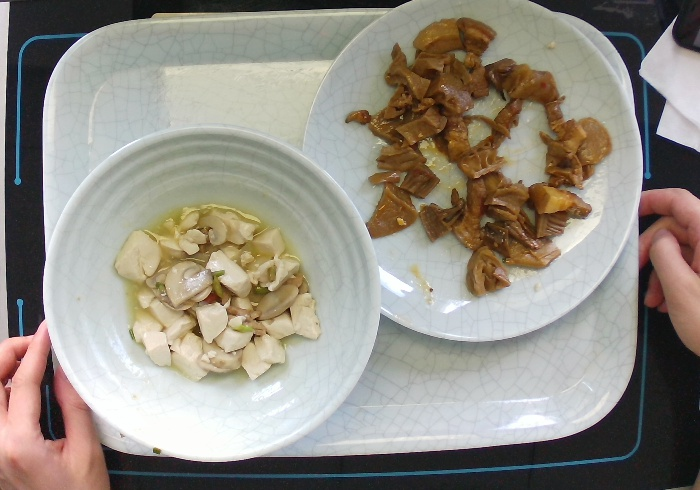JYsf-Da_Tang_Wan: (44, 130, 375, 465)
JYsf-Da_Yuan_Pan: (295, 1, 636, 343)
